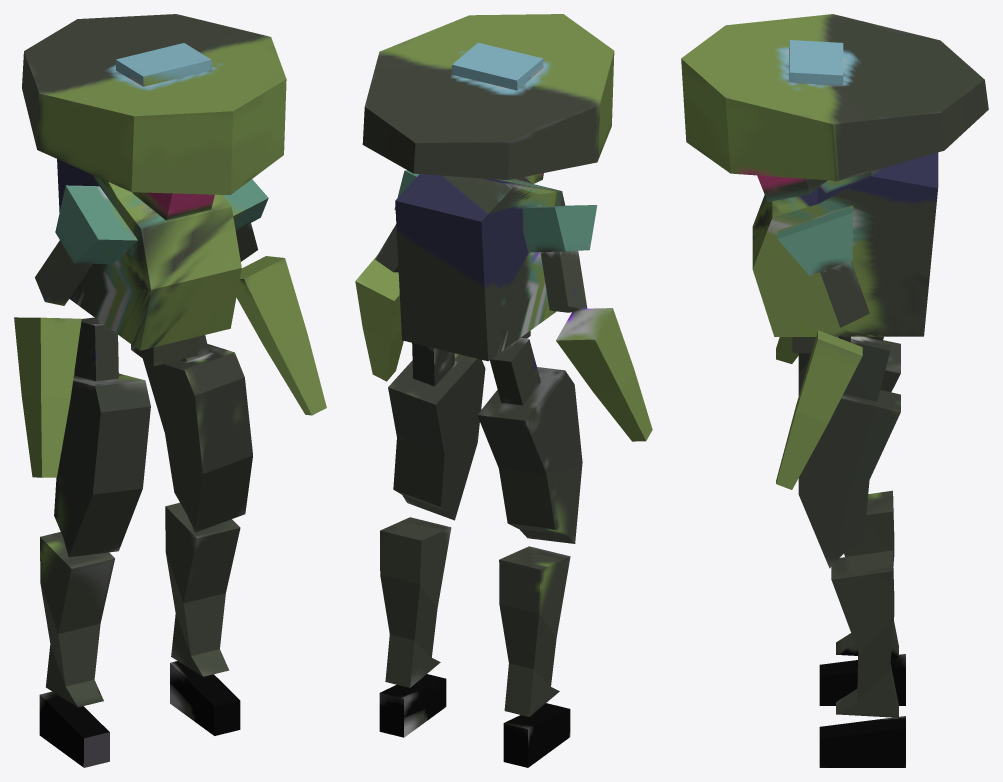
Rendered from FracturedEnemy1.fbx.
The picture shows the model from 3 angles, left to right: view 1: azimuth 30°, elevation 25°; view 2: azimuth 150°, elevation 25°; view 3: azimuth 270°, elevation 25°; orthographic projection. The views are drawn at different scales.
Parts seen in each view (by area): view 1: Cube.013, Cube.003, Cube.014, Cube.004, Cube.015, Cube.006, Cube.019, Cube.012, Cube.017, Cube.009, Cube.016, Cube.007 (+3 smaller); view 2: Cube.013, Cube.003, Cube.014, Cube.004, Cube.015, Cube.006, Cube.019, Cube.012, Cube.017, Cube.016, Cube.007, Cube.009 (+2 smaller); view 3: Cube.013, Cube.003, Cube.004, Cube.006, Cube.012, Cube.007, Cube.009, Cube.010, Cube.015, Cube.016, Cube.011, Cube.014.
Part boxes in pixels (x1,y1,x2,y2): Cube.013: [22, 14, 286, 194]; Cube.003: [57, 159, 241, 366]; Cube.014: [54, 317, 150, 557]; Cube.004: [143, 335, 252, 532]; Cube.015: [40, 532, 114, 707]; Cube.006: [165, 502, 240, 676]; Cube.019: [14, 317, 81, 477]; Cube.012: [236, 256, 326, 415]; Cube.017: [55, 185, 137, 264]; Cube.009: [115, 43, 214, 220]; Cube.016: [39, 691, 109, 767]; Cube.007: [170, 661, 240, 735]; Cube.013: [362, 14, 614, 180]; Cube.003: [395, 174, 565, 361]; Cube.014: [477, 338, 582, 543]; Cube.004: [388, 343, 485, 520]; Cube.015: [499, 546, 570, 716]; Cube.006: [380, 517, 451, 687]; Cube.019: [556, 308, 652, 441]; Cube.012: [355, 255, 403, 381]; Cube.017: [522, 205, 597, 252]; Cube.016: [503, 703, 570, 767]; Cube.007: [379, 674, 446, 737]; Cube.009: [452, 42, 543, 183]; Cube.013: [681, 14, 988, 180]; Cube.003: [752, 152, 938, 353]; Cube.004: [798, 336, 900, 568]; Cube.006: [831, 550, 898, 717]; Cube.012: [776, 330, 862, 489]; Cube.007: [819, 716, 905, 767]; Cube.009: [757, 40, 843, 201]; Cube.010: [777, 205, 853, 275]; Cube.015: [836, 490, 898, 658]; Cube.016: [819, 654, 905, 705]; Cube.011: [820, 261, 869, 327]; Cube.014: [798, 336, 900, 393].
Size of the model in its own units: 190 by 437 by 181.
